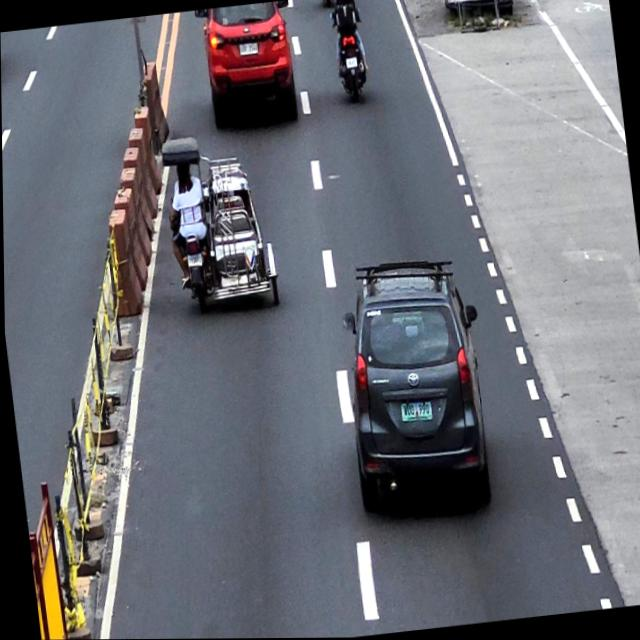Car: (331, 251, 500, 523), (194, 0, 303, 133)
License-Plate: (398, 401, 432, 425), (239, 42, 259, 55), (185, 253, 202, 267), (345, 57, 357, 69)
Motorcycle: (329, 6, 371, 106)
Tricycle: (160, 128, 281, 315)
